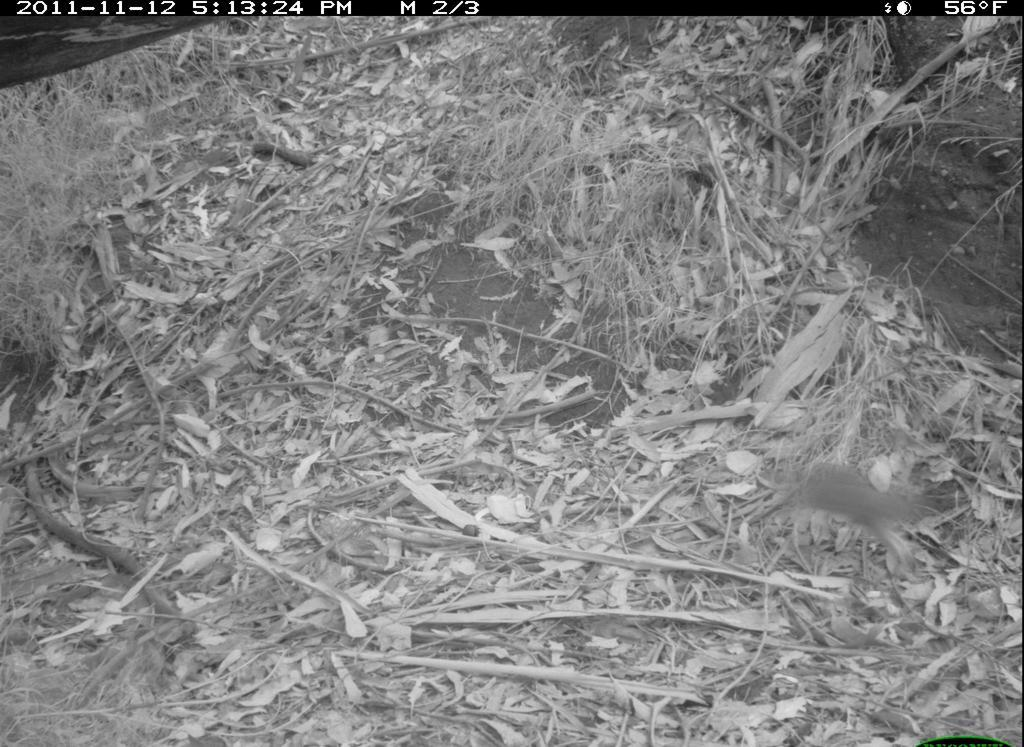rabbit: (747, 455, 945, 582)
